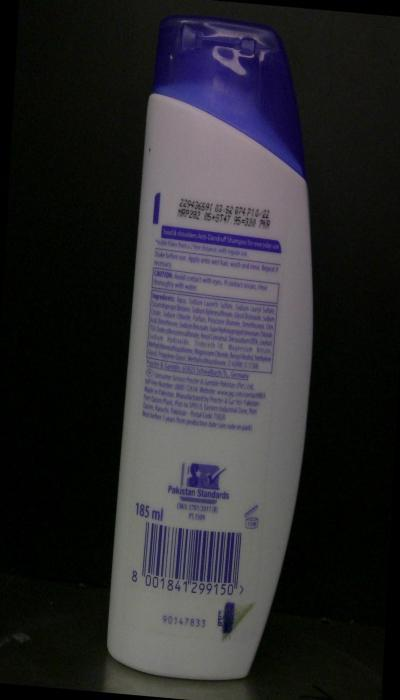adhesion_unacc: (218, 596, 256, 646)
